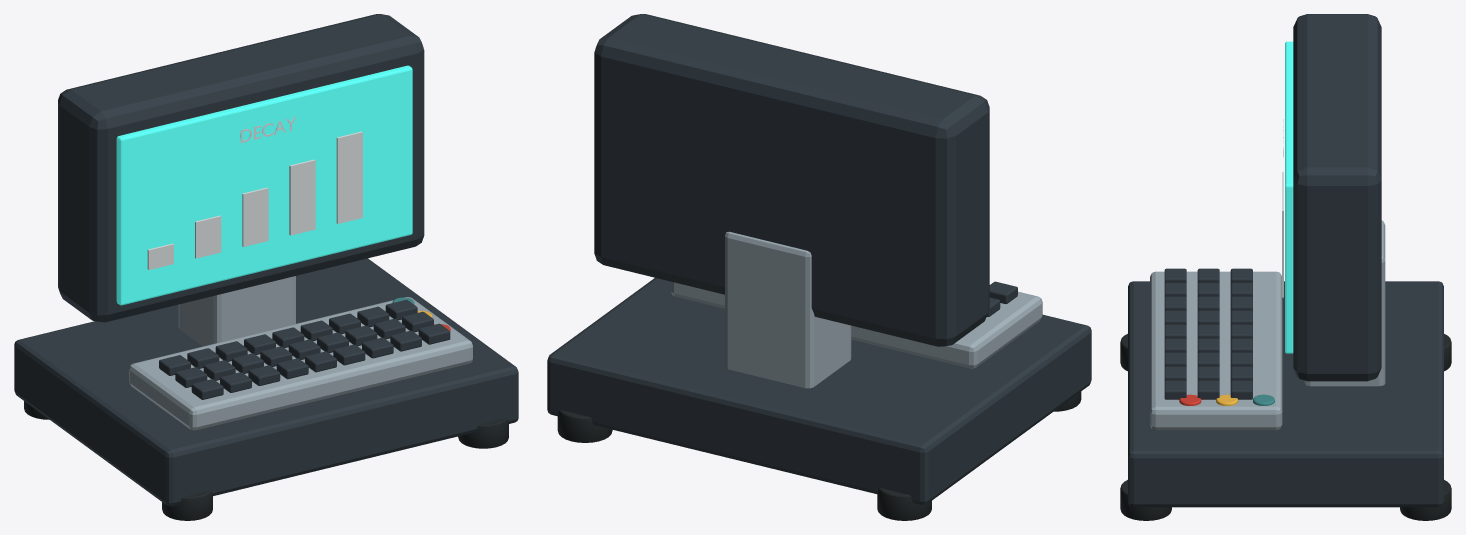
File: graph.glb
3 views of the same model, side by side, from view 1: azimuth 30°, elevation 25°; view 2: azimuth 150°, elevation 25°; view 3: azimuth 270°, elevation 25° (orthographic). The views are drawn at different scales.
Visible parts, largest first — view 1: Console base, Screen, Monitor bezel, Keyboard, Monitor stand, Display bar.004, Display bar.003, Display bar.002, Rubber foot, Rubber foot.002, Display bar.001, Display bar; view 2: Monitor bezel, Console base, Monitor stand, Keyboard, Rubber foot.001, Rubber foot.003; view 3: Console base, Monitor bezel, Keyboard, Screen, Monitor stand, Rubber foot.002, Rubber foot.003, Key.017, Key.008, Key.026.
Boxes of the visible parts, <box> form: Console base: <box>14,258,518,506</box>; Screen: <box>116,65,412,305</box>; Monitor bezel: <box>58,14,424,322</box>; Keyboard: <box>129,297,472,430</box>; Monitor stand: <box>178,276,295,346</box>; Display bar.004: <box>336,131,362,223</box>; Display bar.003: <box>289,159,315,235</box>; Display bar.002: <box>242,187,268,246</box>; Rubber foot: <box>162,490,212,520</box>; Rubber foot.002: <box>458,418,508,448</box>; Display bar.001: <box>195,215,221,258</box>; Display bar: <box>147,243,173,269</box>; Monitor bezel: <box>594,14,989,346</box>; Console base: <box>547,278,1091,504</box>; Monitor stand: <box>725,231,851,388</box>; Keyboard: <box>671,281,1042,368</box>; Rubber foot.001: <box>877,488,931,520</box>; Rubber foot.003: <box>557,410,612,442</box>; Console base: <box>1128,281,1443,507</box>; Monitor bezel: <box>1293,14,1381,381</box>; Keyboard: <box>1150,271,1282,430</box>; Screen: <box>1285,41,1293,353</box>; Monitor stand: <box>1304,220,1385,386</box>; Rubber foot.002: <box>1120,480,1171,520</box>; Rubber foot.003: <box>1400,480,1451,520</box>; Key.017: <box>1197,380,1219,399</box>; Key.008: <box>1164,380,1186,399</box>; Key.026: <box>1230,380,1252,399</box>.
Bounding box in the file's own units: 0.56 × 0.52 × 0.45.
